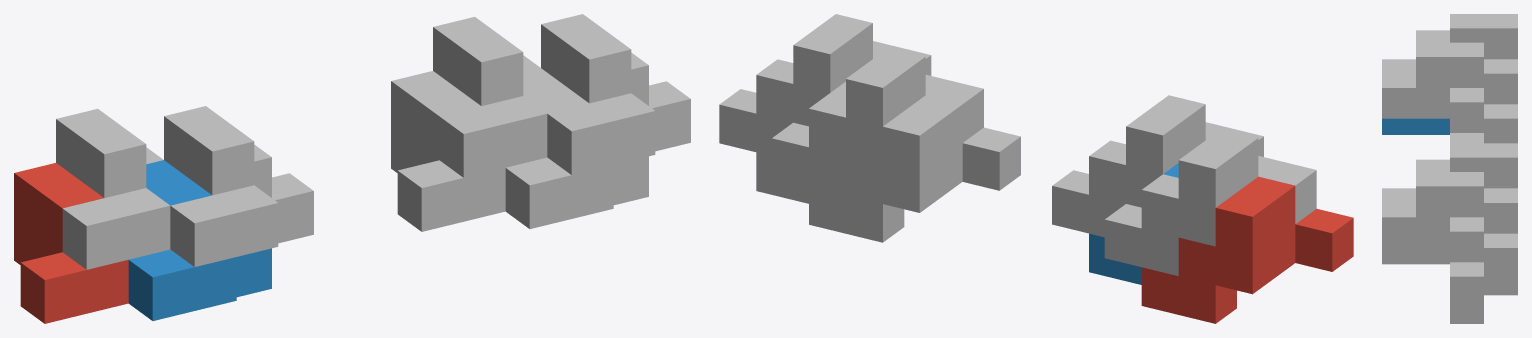
File: tiling.obj
The picture shows the model from 3 angles, left to right: view 1: azimuth 30°, elevation 25°; view 2: azimuth 150°, elevation 25°; view 3: azimuth 270°, elevation 25°; orthographic projection. The views are drawn at different scales.
Parts seen in each view (by area): view 1: copy_1_domain_4, copy_1_domain_8, copy_1_domain_3, copy_1_domain_7, copy_1_domain_1, copy_1_domain_5, copy_1_domain_2, copy_1_domain_6; view 2: copy_1_domain_1, copy_1_domain_5, copy_1_domain_3, copy_1_domain_7, copy_1_domain_8, copy_1_domain_4, copy_1_domain_2, copy_1_domain_6; view 3: copy_1_domain_8, copy_1_domain_4, copy_1_domain_7, copy_1_domain_3, copy_1_domain_6, copy_1_domain_2, copy_1_domain_5.
Boxes of the visible parts, x1,y1,x2,y2 form: copy_1_domain_4: (164, 106, 313, 266); copy_1_domain_8: (541, 14, 690, 174); copy_1_domain_3: (56, 108, 170, 269); copy_1_domain_7: (433, 17, 547, 177); copy_1_domain_1: (14, 163, 128, 323); copy_1_domain_5: (391, 71, 505, 231); copy_1_domain_2: (128, 160, 271, 320); copy_1_domain_6: (505, 68, 648, 228); copy_1_domain_1: (1141, 176, 1353, 323); copy_1_domain_5: (809, 95, 1020, 242); copy_1_domain_3: (1104, 129, 1316, 275); copy_1_domain_7: (772, 47, 983, 194); copy_1_domain_8: (719, 14, 931, 155); copy_1_domain_4: (1052, 95, 1263, 237); copy_1_domain_2: (1089, 163, 1178, 284); copy_1_domain_6: (756, 81, 845, 203); copy_1_domain_8: (1382, 172, 1483, 307); copy_1_domain_4: (1382, 42, 1483, 143); copy_1_domain_7: (1416, 143, 1517, 278); copy_1_domain_3: (1416, 14, 1517, 143); copy_1_domain_6: (1382, 248, 1483, 323); copy_1_domain_2: (1382, 118, 1449, 134); copy_1_domain_5: (1484, 278, 1517, 295).
Bounding box in the file's own units: 16 × 4 × 4.
